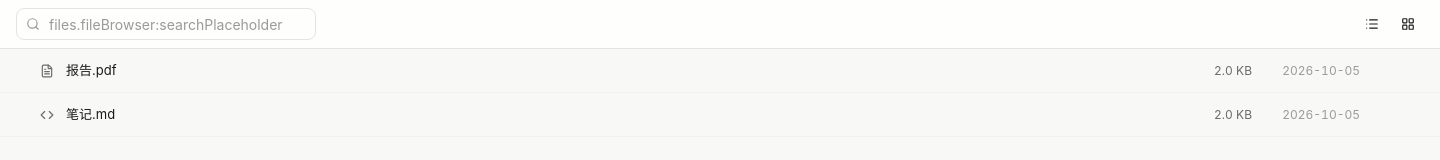
Test case: FileBrowser › 搜索过滤：大小写不敏感，只剩匹配项
Step 1. Type "PDF" into the search field named "files.fileBrowser:searchAria" → point(166, 24), box [16,8,316,40]
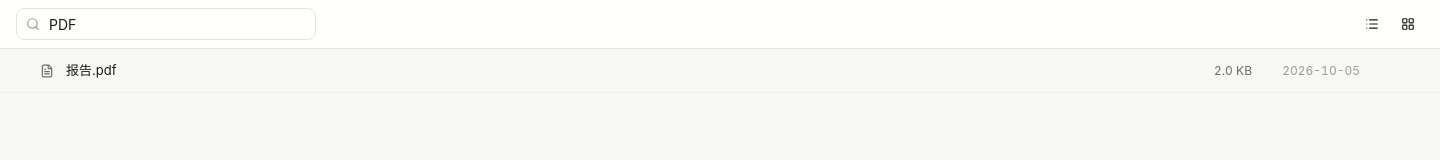
Expected: the row shows "报告.pdf", [66,62,116,78]
Expected: the number of rows is 1, [0,49,1439,93]
Step 2. Clear the search field named "files.fileBrowser:searchAria" → point(166, 24), box [16,8,316,40]
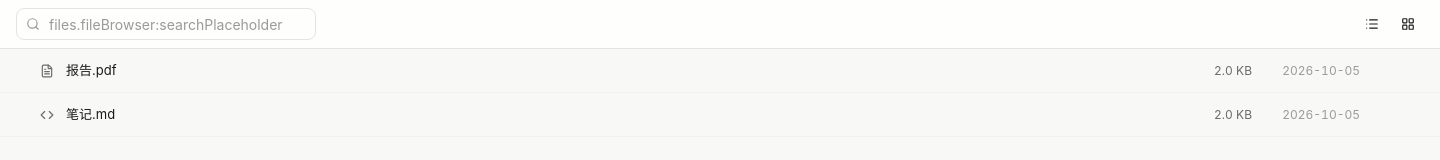
Expected: the number of rows is 2, [0,49,1439,93]; [0,93,1439,137]
